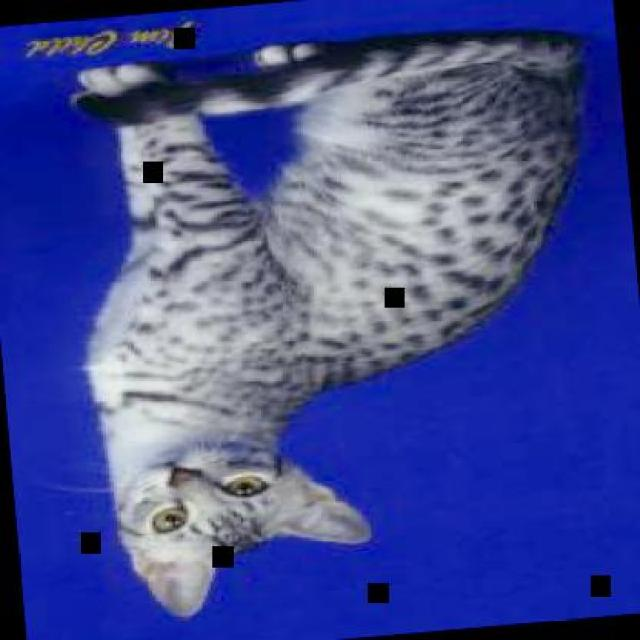cat: (61, 17, 634, 625)
